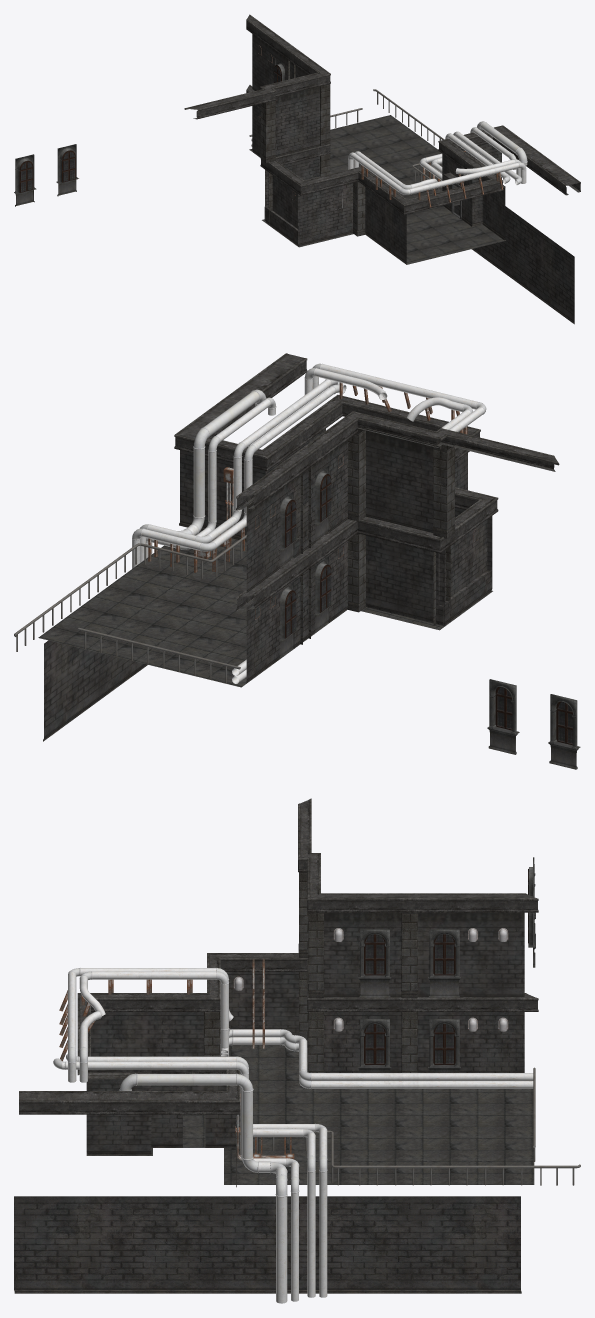
The picture shows the model from 3 angles, top to bottom: view 1: azimuth 30°, elevation 25°; view 2: azimuth 150°, elevation 25°; view 3: azimuth 270°, elevation 25°; orthographic projection. The views are drawn at different scales.
Visible parts, largest first — view 1: LOD_1_Group_0_Sub_2__st1_townPolice01_Mat, LOD_1_Group_0_Sub_1__st1_townPolice00_Mat, LOD_1_Group_0_Sub_3__st1_townGround00_Mat, LOD_1_Group_0_Sub_6__st1_townParts01_Mat, LOD_1_Group_0_Sub_7__st1_townPoliceparts00_Mat, LOD_1_Group_0_Sub_5__st2_police1fRightStairs02, LOD_1_Group_0_Sub_8__st1_PoliceWinEmissive_Mat; view 2: LOD_1_Group_0_Sub_2__st1_townPolice01_Mat, LOD_1_Group_0_Sub_1__st1_townPolice00_Mat, LOD_1_Group_0_Sub_3__st1_townGround00_Mat, LOD_1_Group_0_Sub_6__st1_townParts01_Mat, LOD_1_Group_0_Sub_7__st1_townPoliceparts00_Mat, LOD_1_Group_0_Sub_5__st2_police1fRightStairs02, LOD_1_Group_0_Sub_8__st1_PoliceWinEmissive_Mat; view 3: LOD_1_Group_0_Sub_2__st1_townPolice01_Mat, LOD_1_Group_0_Sub_3__st1_townGround00_Mat, LOD_1_Group_0_Sub_1__st1_townPolice00_Mat, LOD_1_Group_0_Sub_6__st1_townParts01_Mat, LOD_1_Group_0_Sub_7__st1_townPoliceparts00_Mat, LOD_1_Group_0_Sub_8__st1_PoliceWinEmissive_Mat, LOD_1_Group_0_Sub_5__st2_police1fRightStairs02, LOD_1_Group_0_Sub_4__st1_townParts00_Mat.
Part boxes in pixels (x1,y1,x2,y2): LOD_1_Group_0_Sub_2__st1_townPolice01_Mat: [252, 34, 574, 324]; LOD_1_Group_0_Sub_1__st1_townPolice00_Mat: [184, 14, 580, 236]; LOD_1_Group_0_Sub_3__st1_townGround00_Mat: [249, 115, 505, 264]; LOD_1_Group_0_Sub_6__st1_townParts01_Mat: [251, 121, 527, 207]; LOD_1_Group_0_Sub_7__st1_townPoliceparts00_Mat: [14, 58, 284, 206]; LOD_1_Group_0_Sub_5__st2_police1fRightStairs02: [249, 89, 444, 193]; LOD_1_Group_0_Sub_8__st1_PoliceWinEmissive_Mat: [21, 66, 280, 192]; LOD_1_Group_0_Sub_2__st1_townPolice01_Mat: [43, 426, 492, 741]; LOD_1_Group_0_Sub_1__st1_townPolice00_Mat: [174, 353, 559, 644]; LOD_1_Group_0_Sub_3__st1_townGround00_Mat: [38, 530, 492, 687]; LOD_1_Group_0_Sub_6__st1_townParts01_Mat: [132, 363, 486, 683]; LOD_1_Group_0_Sub_7__st1_townPoliceparts00_Mat: [278, 466, 580, 769]; LOD_1_Group_0_Sub_5__st2_police1fRightStairs02: [14, 534, 246, 683]; LOD_1_Group_0_Sub_8__st1_PoliceWinEmissive_Mat: [286, 476, 572, 743]; LOD_1_Group_0_Sub_2__st1_townPolice01_Mat: [14, 912, 524, 1293]; LOD_1_Group_0_Sub_3__st1_townGround00_Mat: [86, 1044, 534, 1184]; LOD_1_Group_0_Sub_1__st1_townPolice00_Mat: [19, 798, 538, 1114]; LOD_1_Group_0_Sub_6__st1_townParts01_Mat: [53, 959, 533, 1303]; LOD_1_Group_0_Sub_7__st1_townPoliceparts00_Mat: [358, 857, 535, 1072]; LOD_1_Group_0_Sub_8__st1_PoliceWinEmissive_Mat: [365, 934, 453, 1063]; LOD_1_Group_0_Sub_5__st2_police1fRightStairs02: [236, 1067, 580, 1185]; LOD_1_Group_0_Sub_4__st1_townParts00_Mat: [233, 928, 508, 1031].
Bounding box in the file's own units: 28.39 × 14.45 × 24.97.
